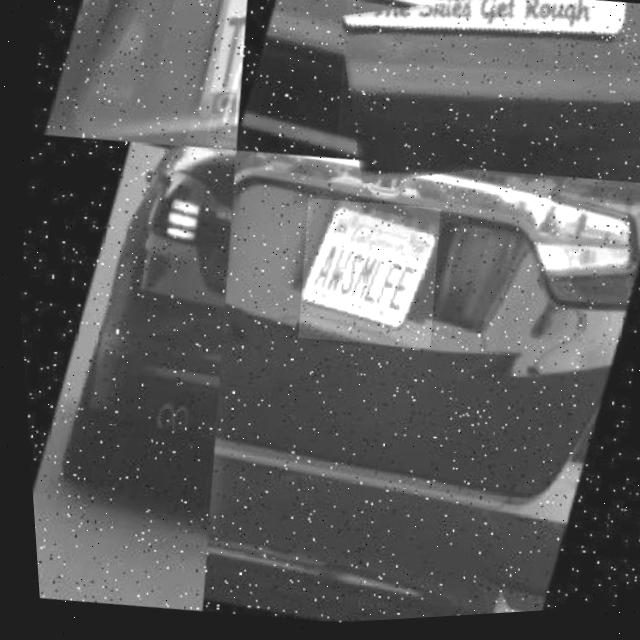LicensePlate: (323, 0, 640, 216), (286, 196, 445, 360)
